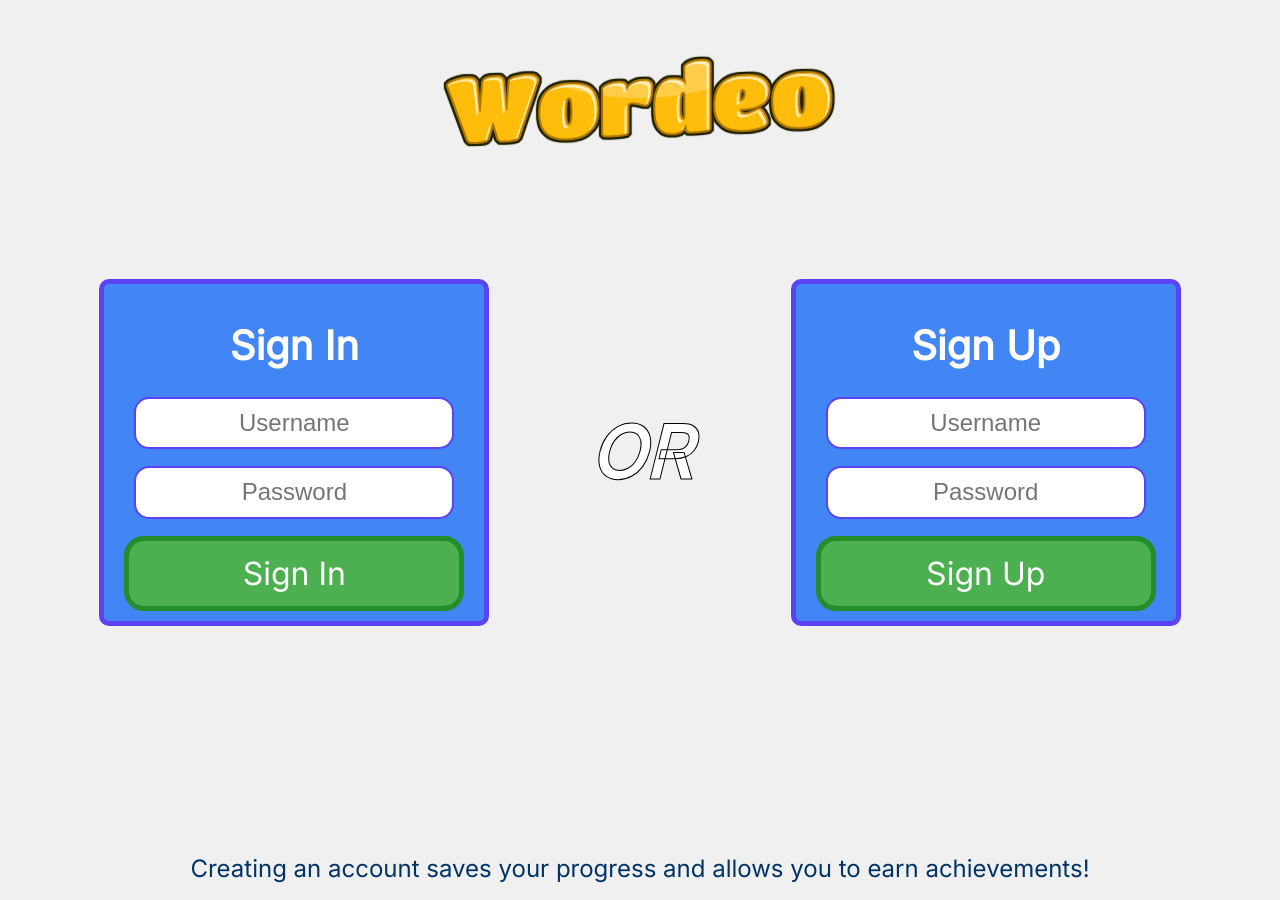
Test case: check create account warning update
The width and height of the screenshot is (1280, 900).
Click the button "Sign Up" at {"x": 986, "y": 573}, box x1=816 y1=536 x2=1156 y2=611
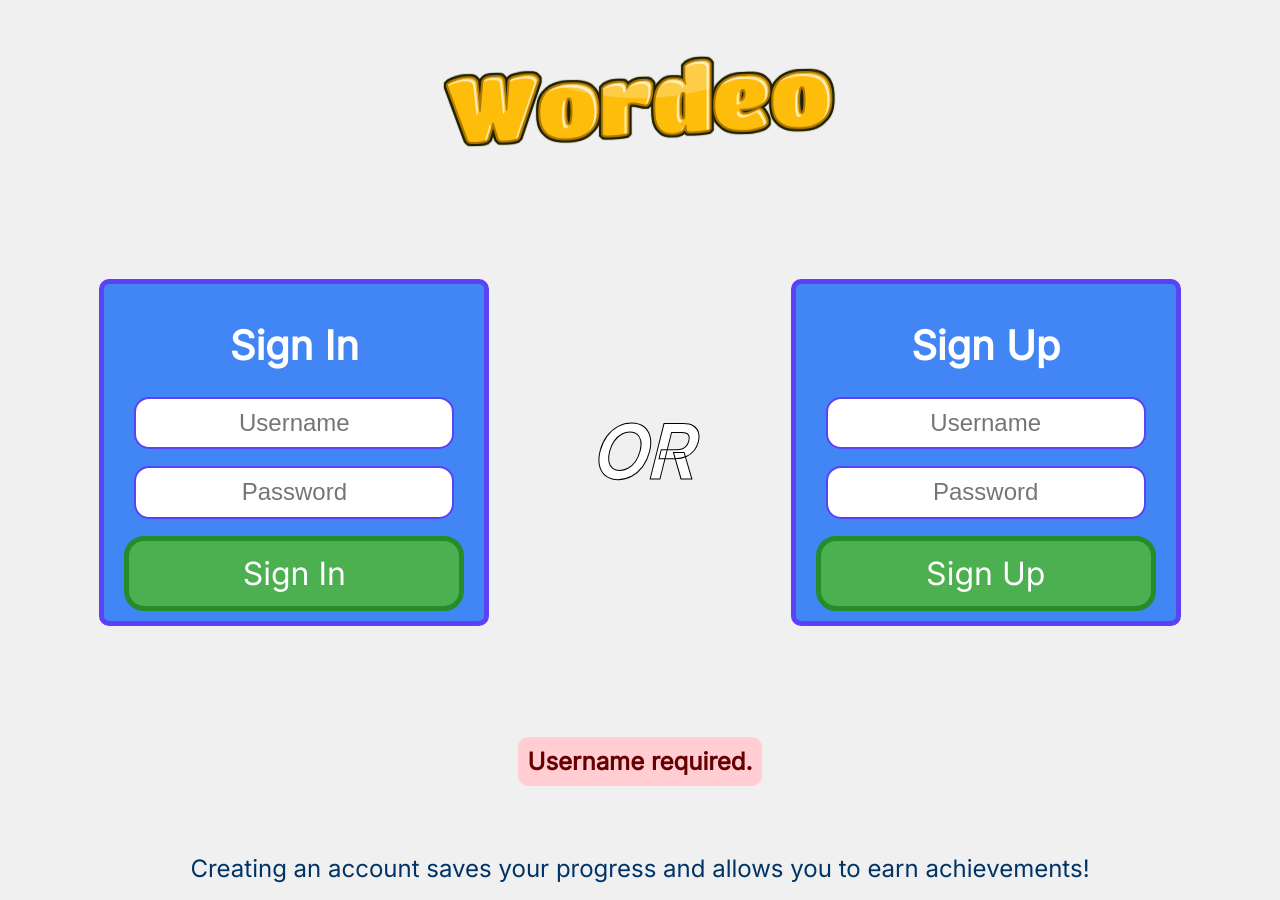
Check: the text "Username required." is shown, box x1=518 y1=737 x2=762 y2=786
Type "test" into the field with id "username" at {"x": 986, "y": 423}, box x1=826 y1=397 x2=1146 y2=449
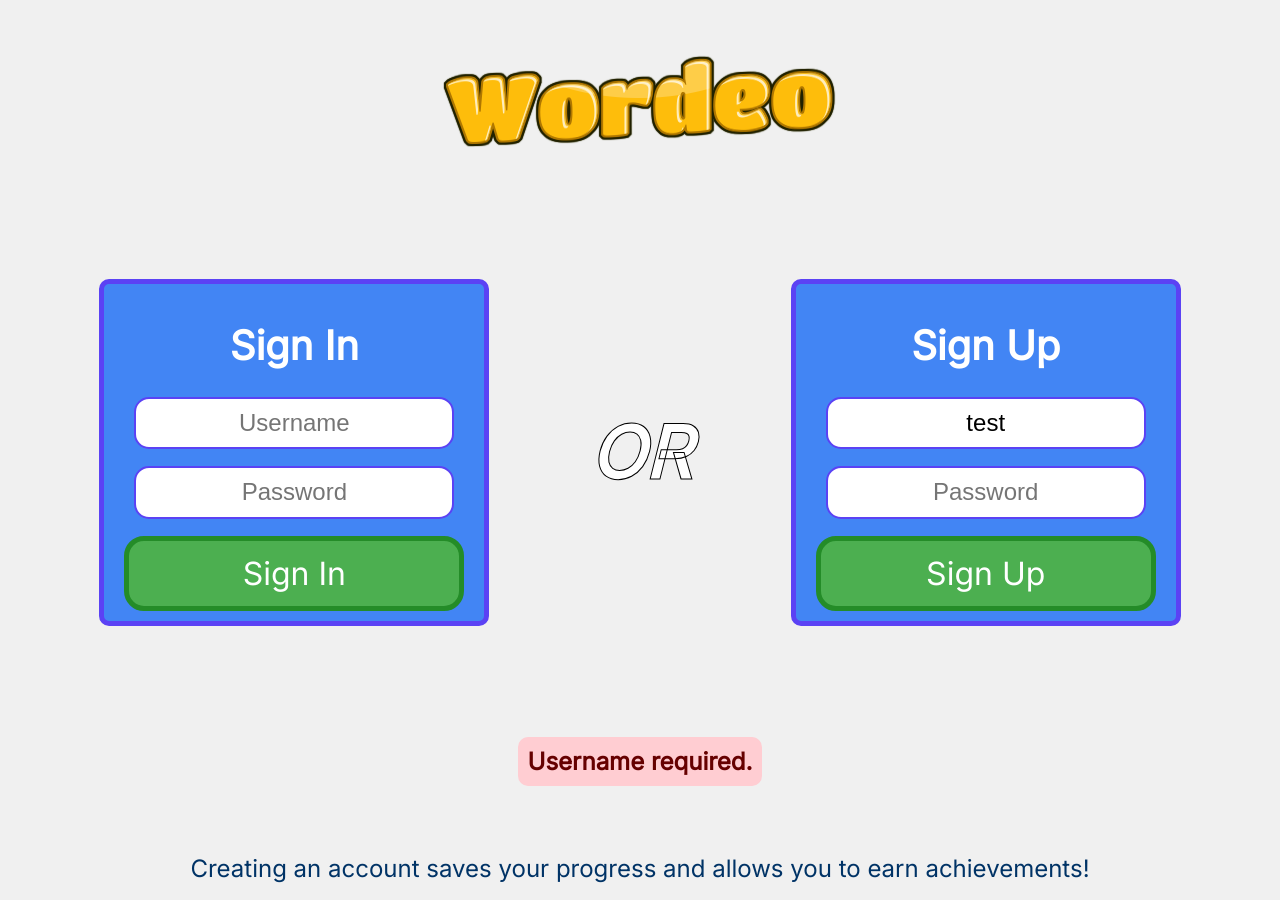
Click the button "Sign Up" at {"x": 986, "y": 573}, box x1=816 y1=536 x2=1156 y2=611
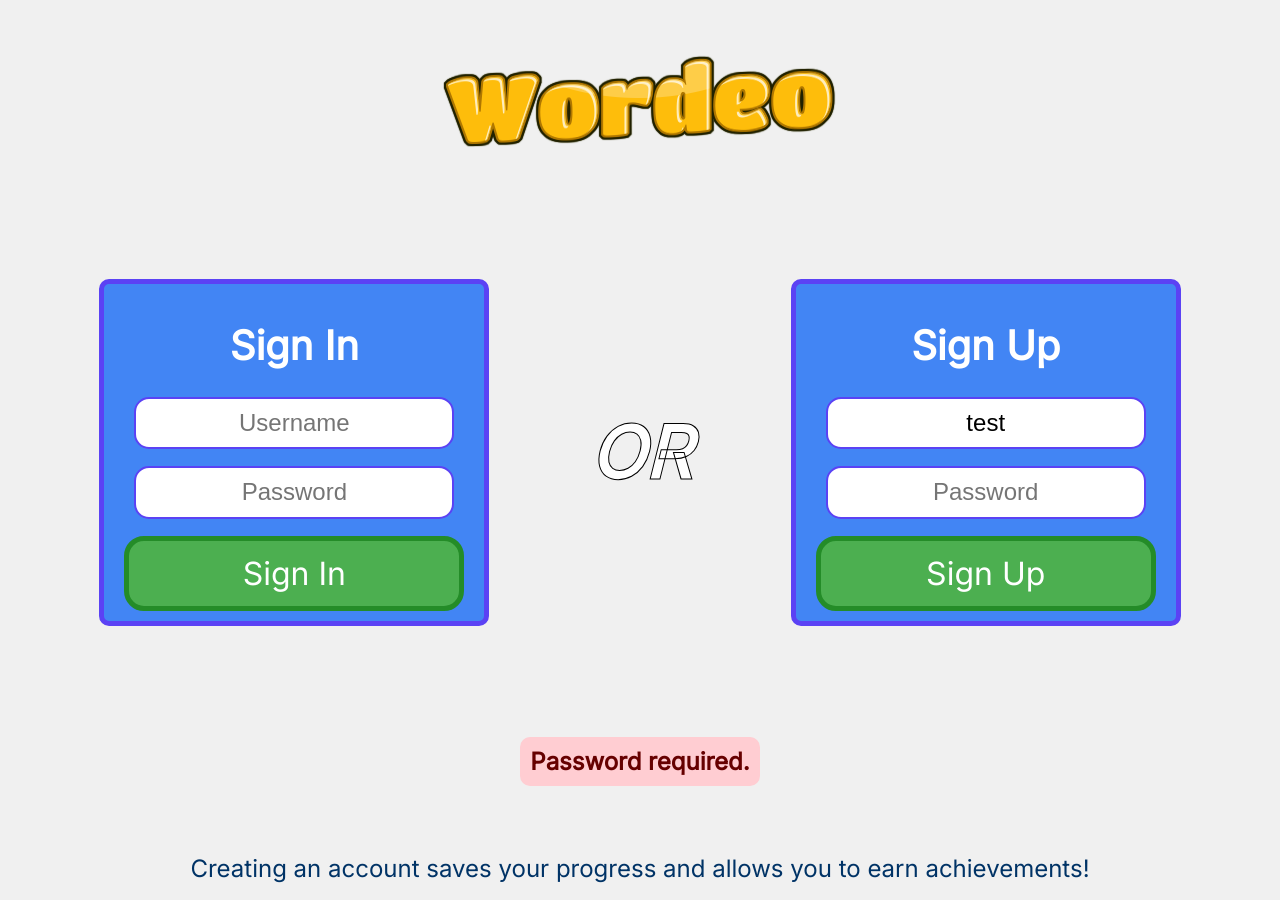
Check: the text "Password required." is shown, box x1=520 y1=737 x2=760 y2=786
